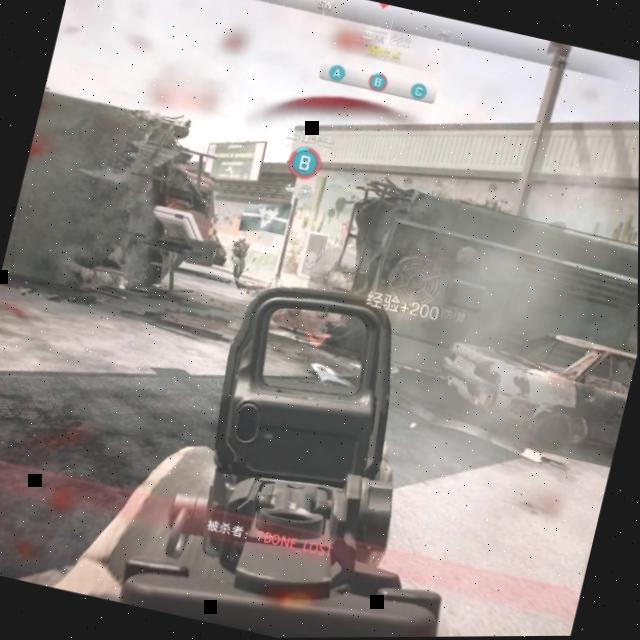MW2_body: (224, 234, 255, 286)
